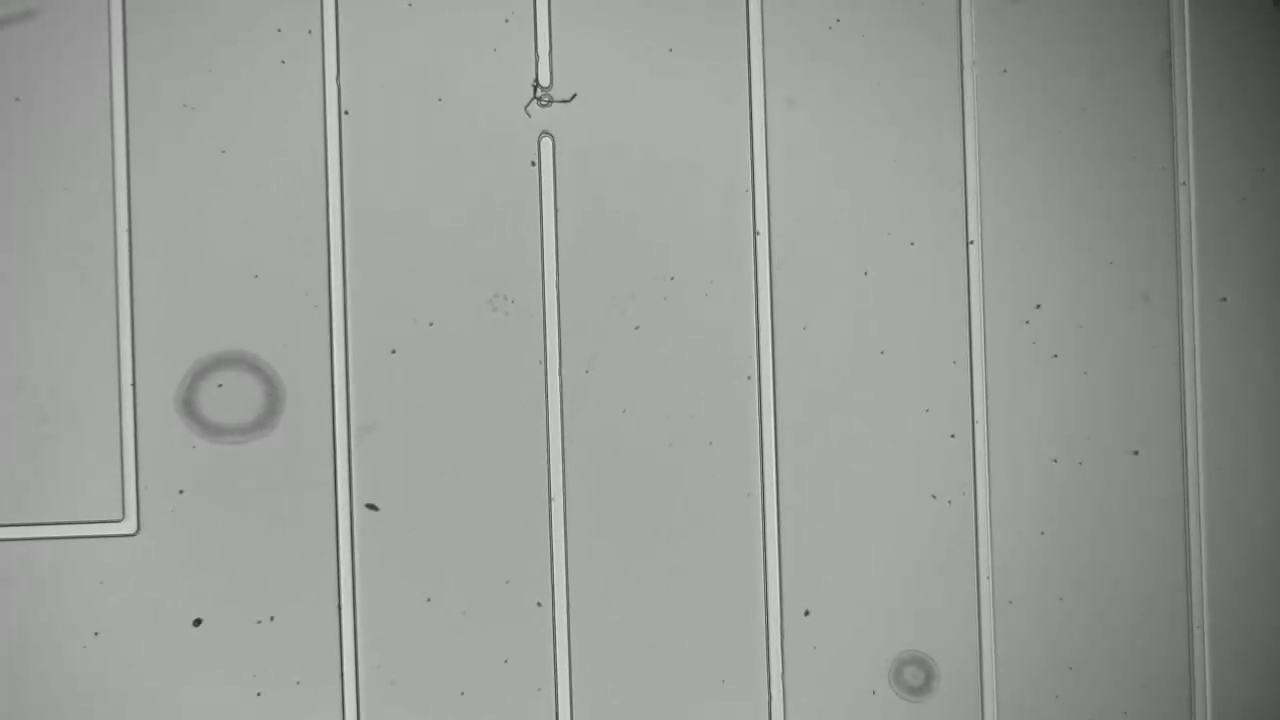open: (513, 63, 569, 156)
